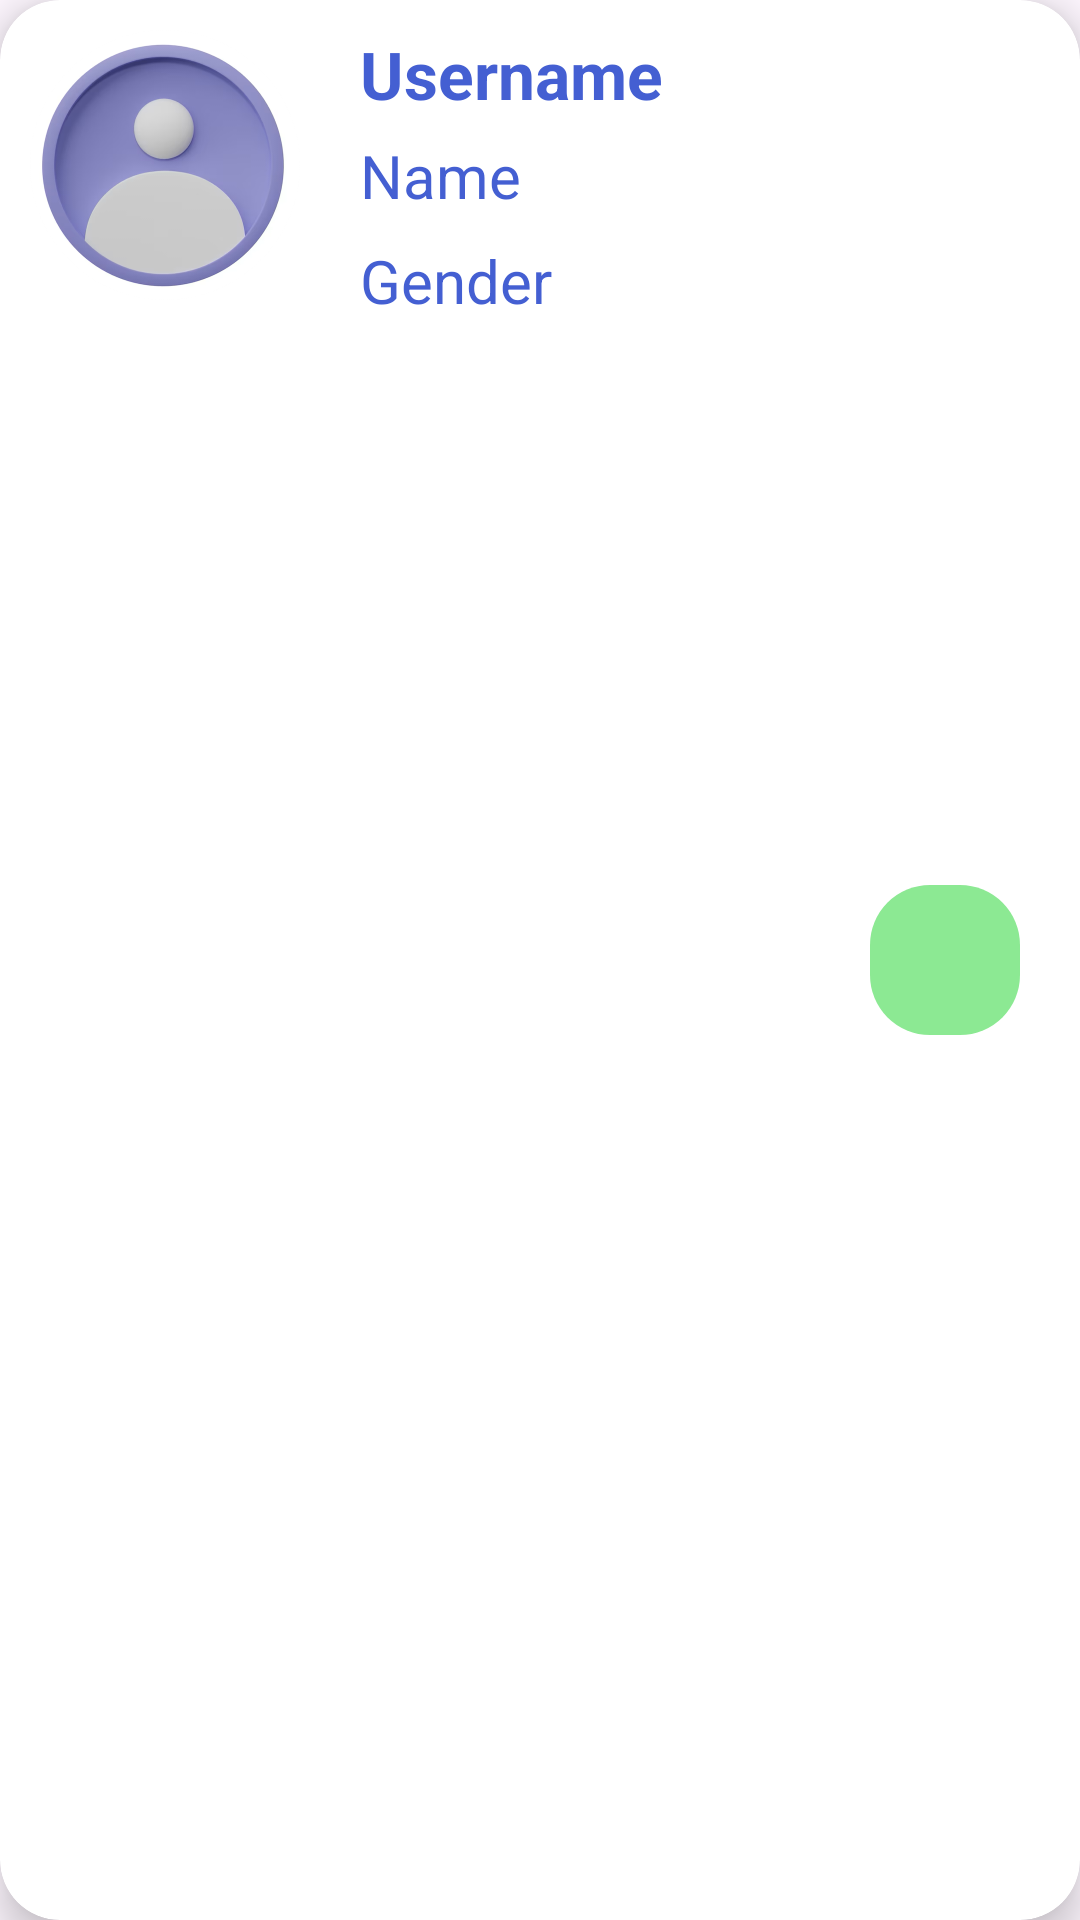

Icon click points for this 1080x1920 phone screenshot, format [x,y]:
perfil: [163,166]
